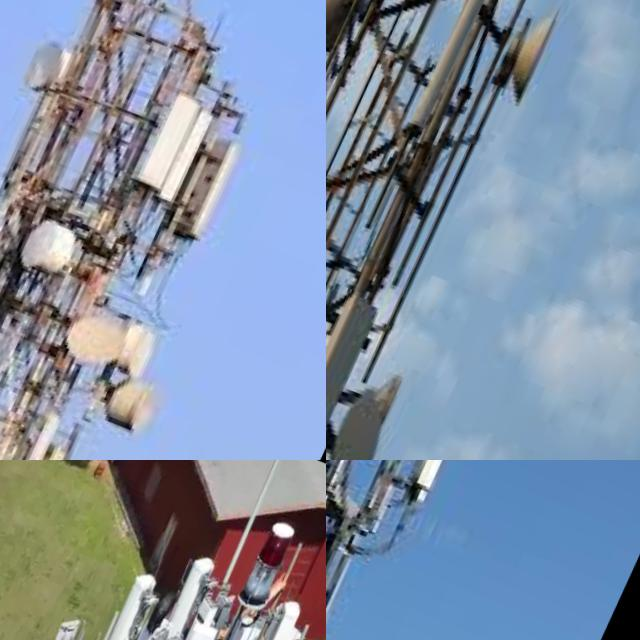GSM Antenna: (400, 0, 512, 148), (326, 281, 395, 460), (159, 125, 248, 246), (131, 83, 209, 202), (163, 93, 231, 209), (167, 541, 228, 633), (94, 561, 165, 640), (387, 460, 513, 499), (6, 396, 75, 460), (8, 607, 93, 640), (261, 591, 312, 640), (13, 430, 87, 460), (170, 612, 229, 640)
Microwave Antenna: (497, 0, 574, 110), (6, 28, 90, 110), (57, 299, 142, 379), (326, 383, 413, 460), (12, 213, 92, 288), (103, 368, 177, 443), (110, 311, 178, 381), (326, 0, 381, 62)
